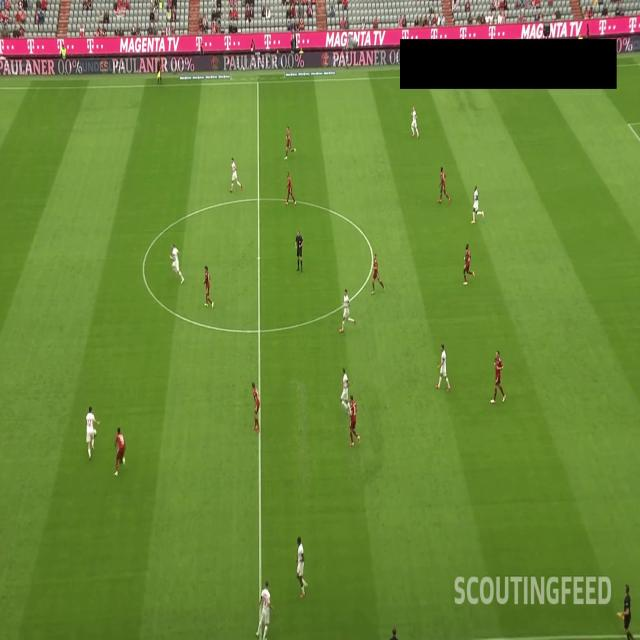ball: (92, 427, 99, 439)
player: (487, 346, 508, 406), (254, 577, 273, 640), (294, 532, 310, 602), (434, 336, 452, 393), (337, 284, 357, 334), (460, 240, 478, 288), (167, 241, 185, 287), (83, 404, 97, 462), (348, 391, 362, 449), (369, 251, 386, 297), (249, 376, 262, 436), (112, 426, 126, 481), (280, 118, 298, 159), (470, 180, 486, 225), (202, 260, 216, 311), (227, 154, 243, 196), (436, 164, 452, 204), (340, 365, 352, 415), (407, 103, 423, 140), (284, 168, 298, 206)
referee: (616, 566, 635, 640), (294, 227, 305, 279), (154, 56, 163, 85)
